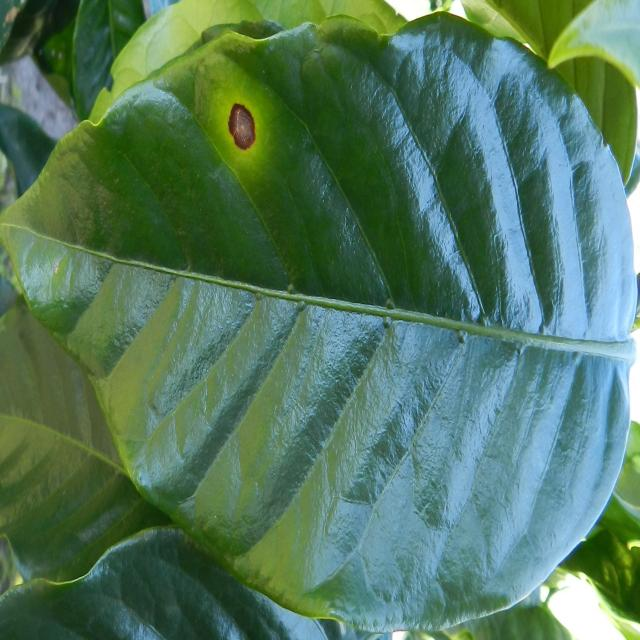Enfermedad-Mancha-de-hierro: (0, 8, 638, 640)
